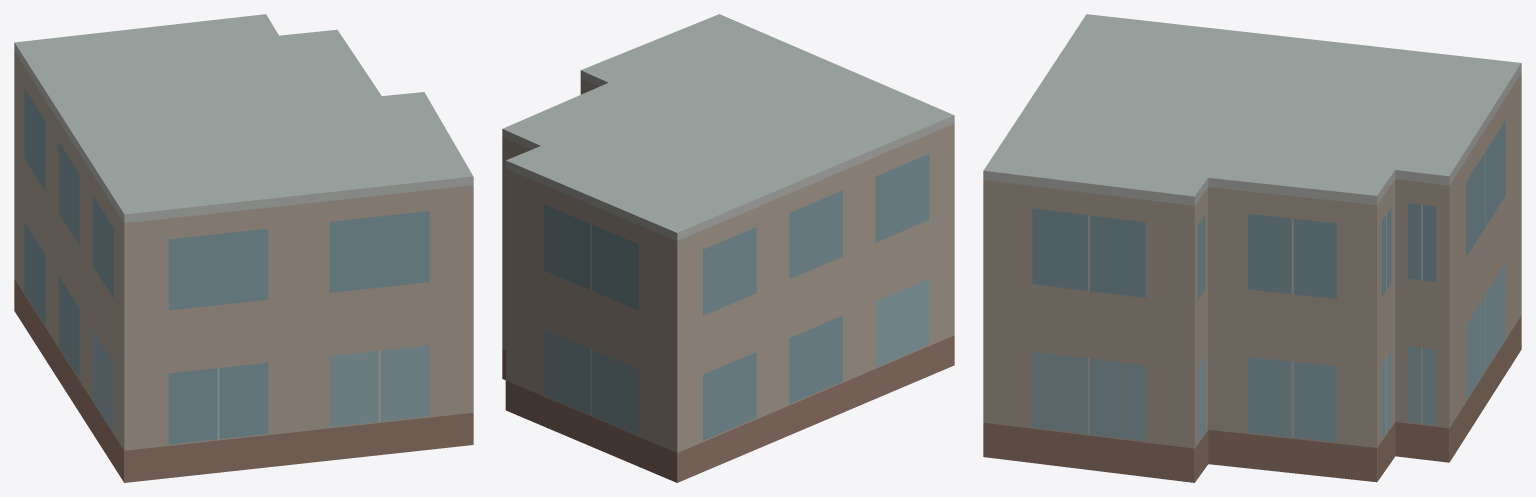
File: survey-upis-32493701.glb
3 renders of one model, left to right at view 1: azimuth 30°, elevation 25°; view 2: azimuth 150°, elevation 25°; view 3: azimuth 270°, elevation 25°, orthographic. The views are drawn at different scales.
Visible parts, largest first — view 1: survey-upis-32493701.tmp; view 2: survey-upis-32493701.tmp; view 3: survey-upis-32493701.tmp.
Part boxes in pixels (x1=…): survey-upis-32493701.tmp: x1=14, y1=14, x2=473, y2=482; survey-upis-32493701.tmp: x1=502, y1=14, x2=954, y2=482; survey-upis-32493701.tmp: x1=983, y1=14, x2=1521, y2=482.
Bounding box in the file's own units: 10.27 × 7.5 × 12.79.
